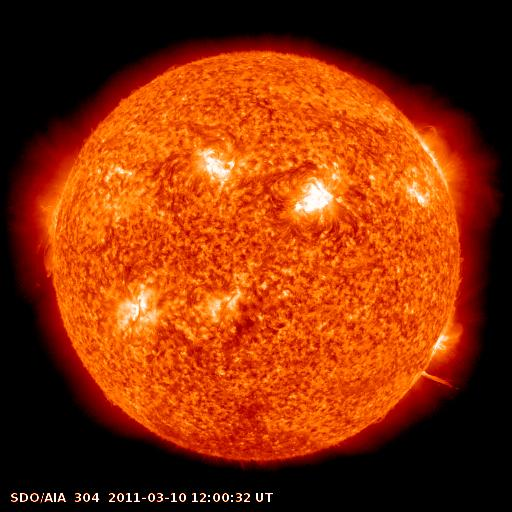prominence: (23, 194, 67, 300), (405, 360, 467, 401)
